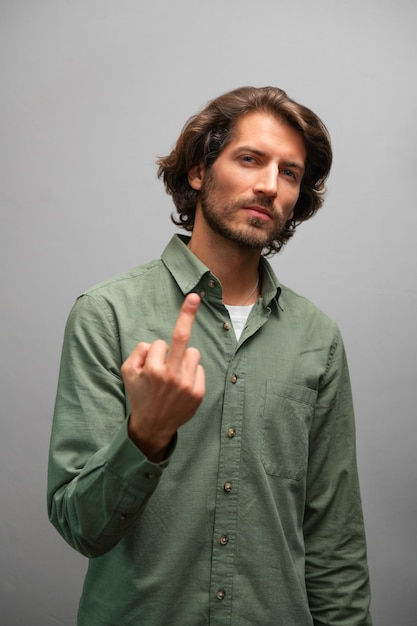insulting_gesture: (119, 291, 209, 445)
